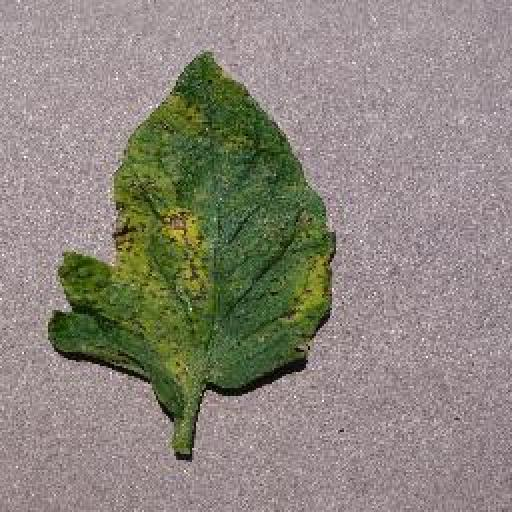Septoria: (47, 50, 339, 394)
